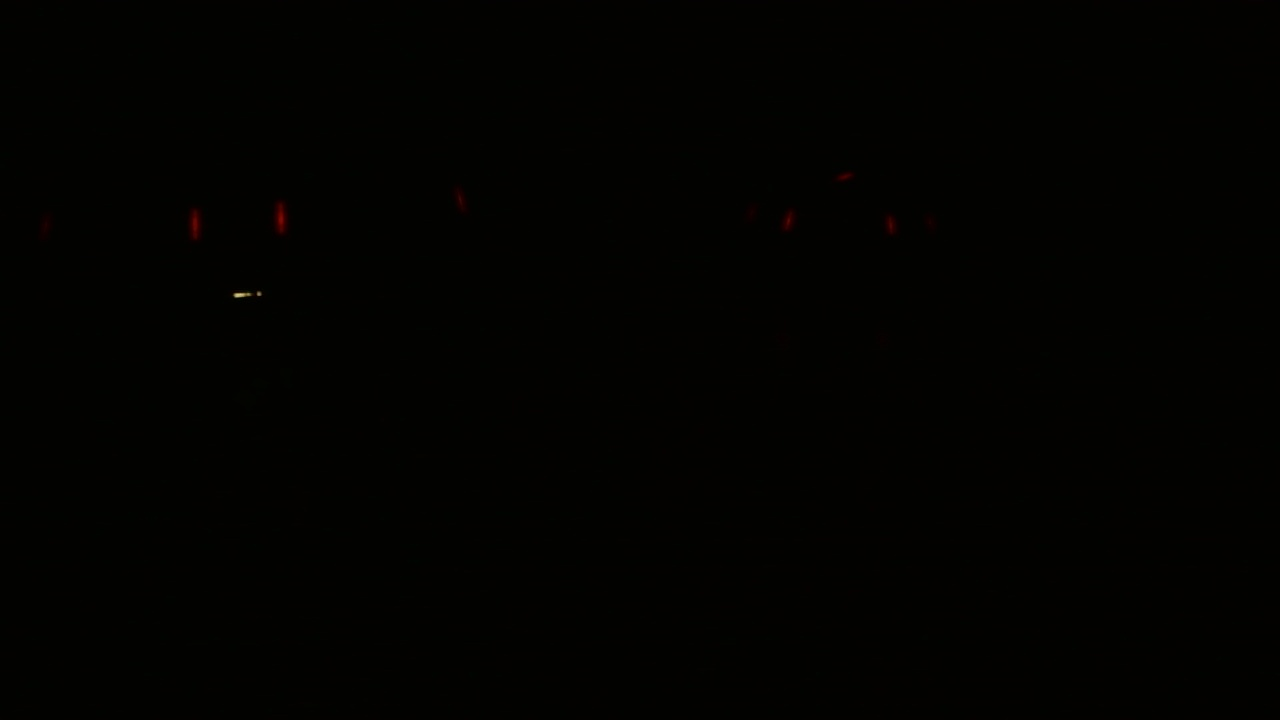pair1: (174, 189, 305, 253), (888, 214, 923, 234)
